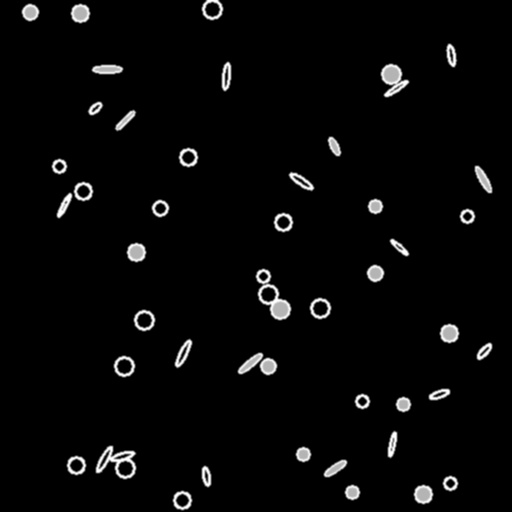pseudomonas: (237, 351, 263, 375), (173, 338, 193, 368), (473, 165, 493, 193), (94, 445, 114, 473), (288, 171, 314, 191), (323, 458, 347, 478), (384, 79, 408, 97), (115, 110, 135, 130), (56, 193, 72, 217), (389, 238, 409, 256), (109, 449, 134, 463), (475, 342, 493, 360), (221, 62, 231, 90), (327, 136, 341, 156), (387, 431, 397, 457), (87, 100, 103, 116), (429, 388, 449, 400), (446, 45, 456, 65), (201, 467, 211, 485), (93, 66, 121, 72)
synechocystis: (382, 65, 400, 83), (115, 357, 133, 375), (271, 300, 289, 318), (203, 0, 221, 18), (116, 459, 134, 477), (135, 311, 153, 329), (259, 285, 277, 303), (311, 299, 329, 317), (441, 325, 457, 341), (174, 492, 190, 508), (68, 457, 84, 473), (275, 214, 291, 230), (180, 149, 196, 165), (72, 5, 88, 21), (415, 486, 431, 502), (128, 244, 144, 260), (75, 183, 91, 199), (368, 266, 382, 280), (261, 359, 275, 373), (153, 201, 167, 215), (23, 5, 37, 19), (369, 200, 381, 212), (297, 448, 309, 460), (356, 395, 368, 407), (397, 398, 409, 410), (257, 270, 269, 282), (444, 477, 456, 489), (461, 210, 473, 222), (53, 160, 65, 172), (346, 486, 358, 498)
